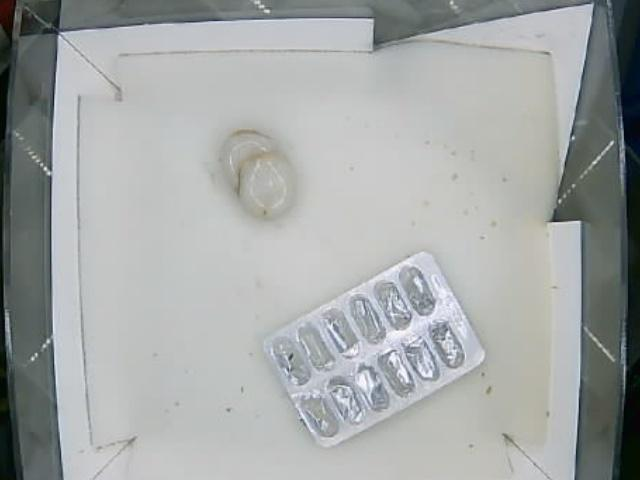Medicine: (263, 249, 489, 446)
Pebble: (218, 127, 298, 222)
